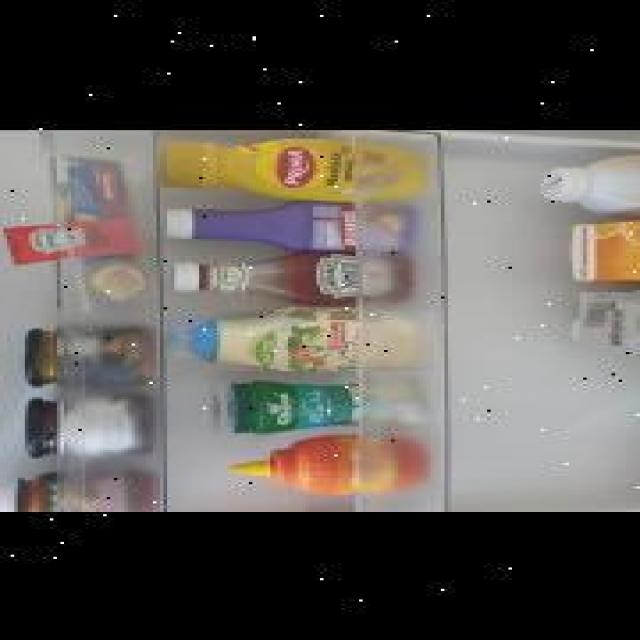mayonaise: (167, 308, 434, 368)
milk: (579, 288, 640, 347)
